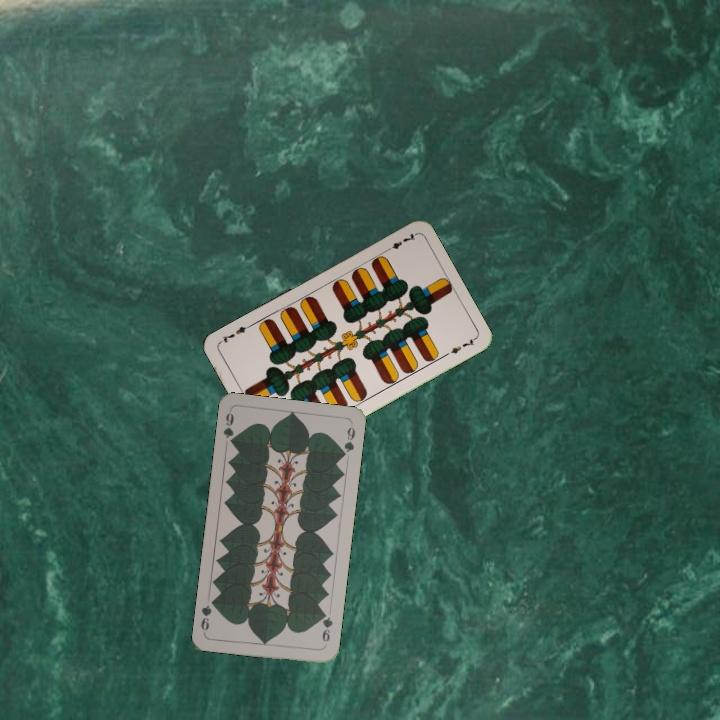E7: (381, 229, 418, 254)
G9: (219, 407, 238, 448), (318, 608, 335, 649)
